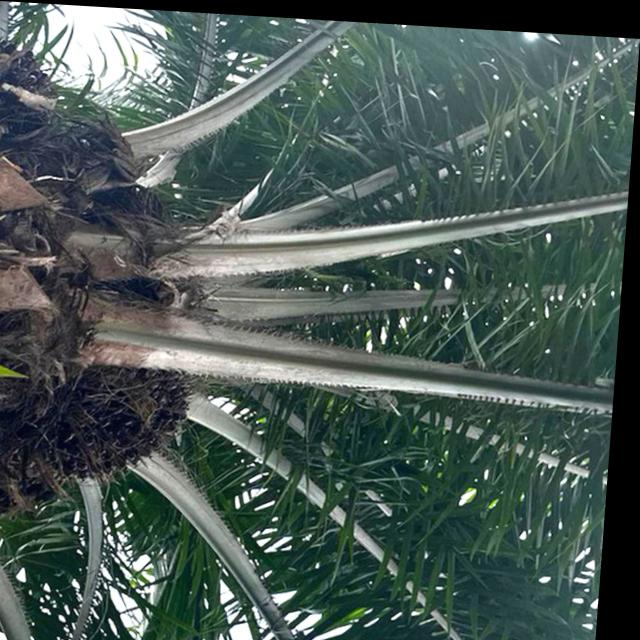almost: (48, 354, 206, 490)
